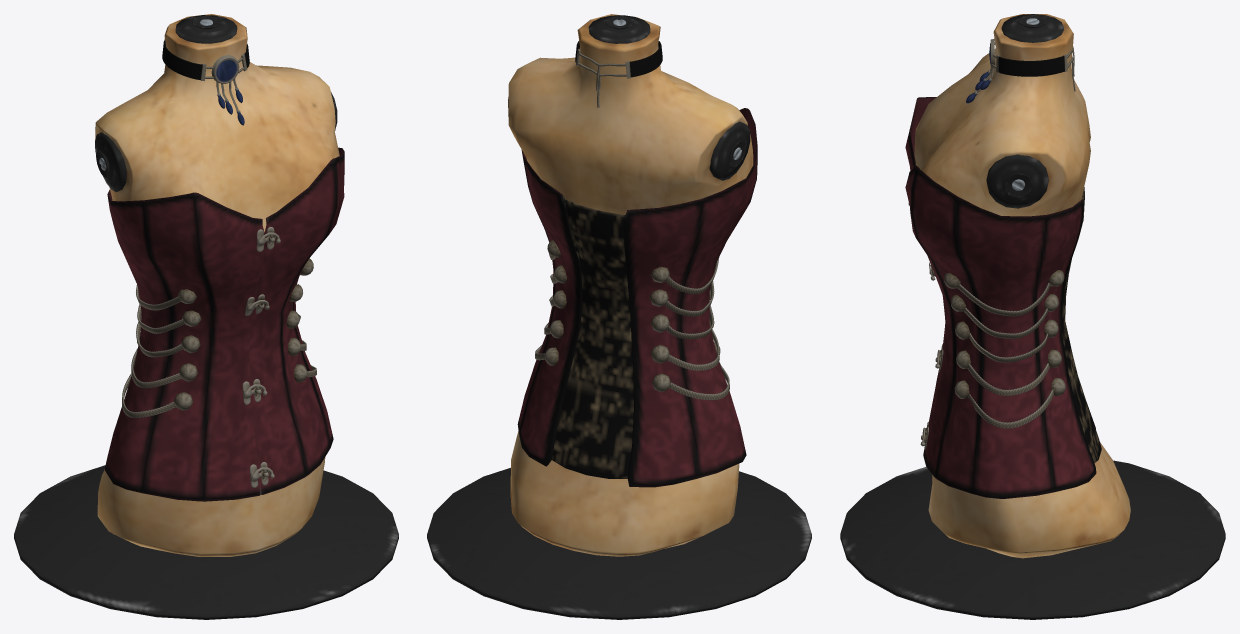
File: Corset.glb
The picture shows the model from 3 angles, left to right: view 1: azimuth 30°, elevation 25°; view 2: azimuth 150°, elevation 25°; view 3: azimuth 270°, elevation 25°; orthographic projection.
Visible parts, largest first — view 1: Corset; view 2: Corset; view 3: Corset.
Part boxes in pixels (bbox=[...]): Corset: bbox=[14, 14, 398, 619]; Corset: bbox=[427, 14, 811, 619]; Corset: bbox=[840, 14, 1225, 619].
Bounding box in the file's own units: 0.0389 × 0.0578 × 0.0389.
Materials: 1 (1 with a texture image).
